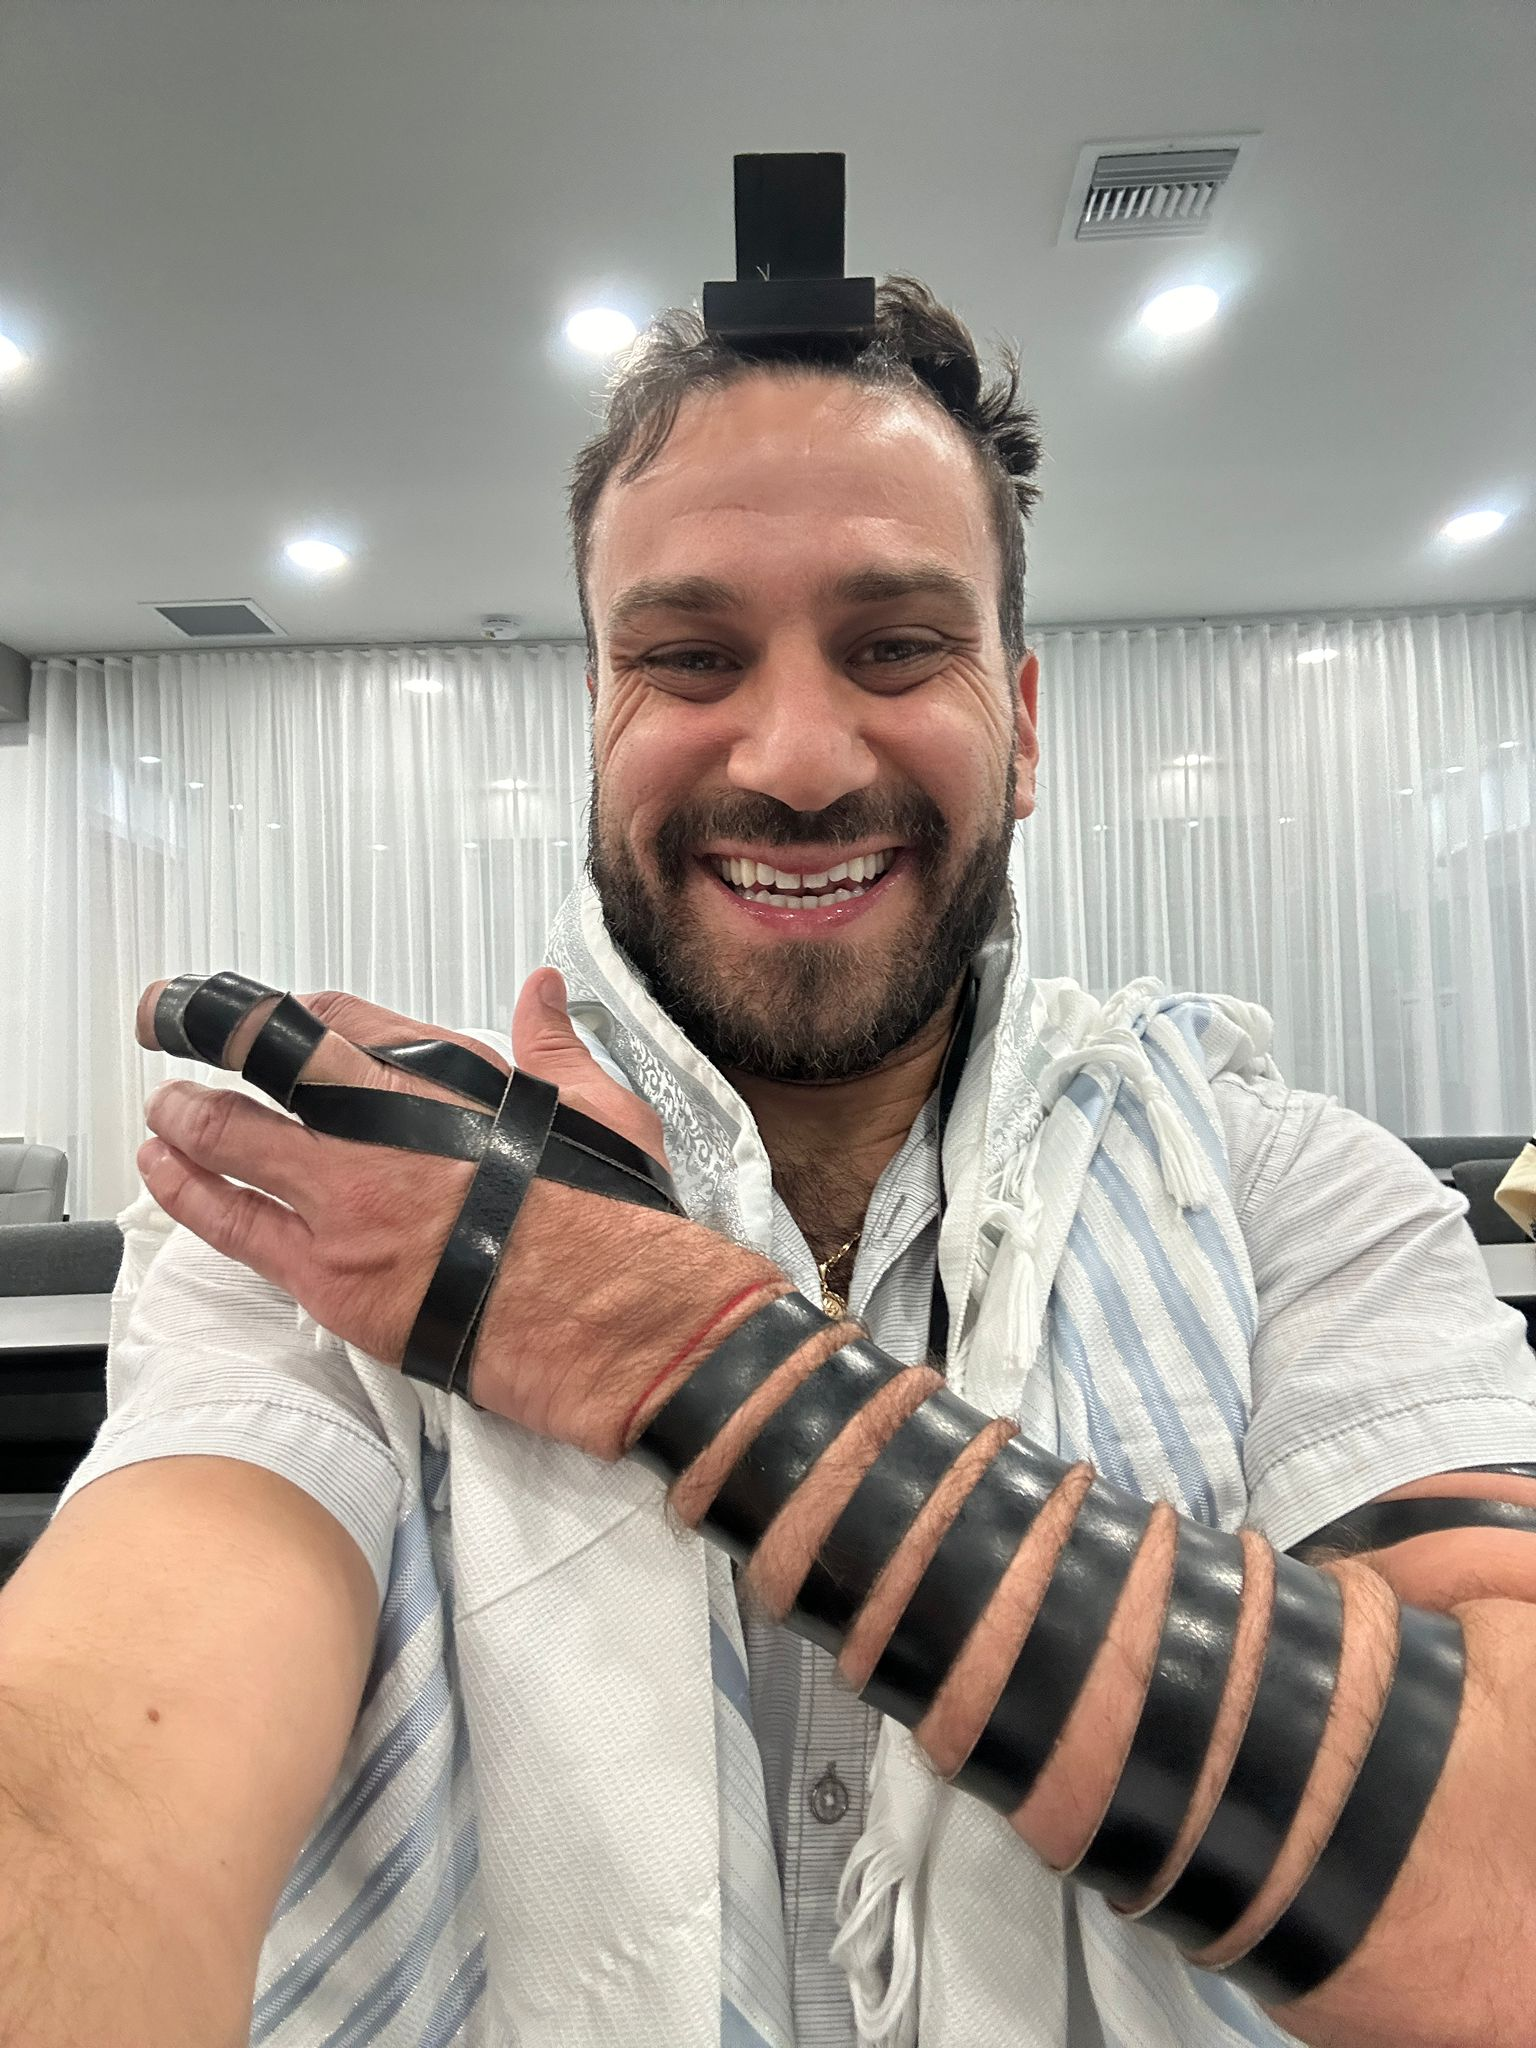tefillin: (705, 155, 870, 345)
